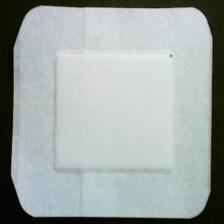Dressing: (9, 6, 216, 221)
F_Body: (159, 48, 181, 69)
